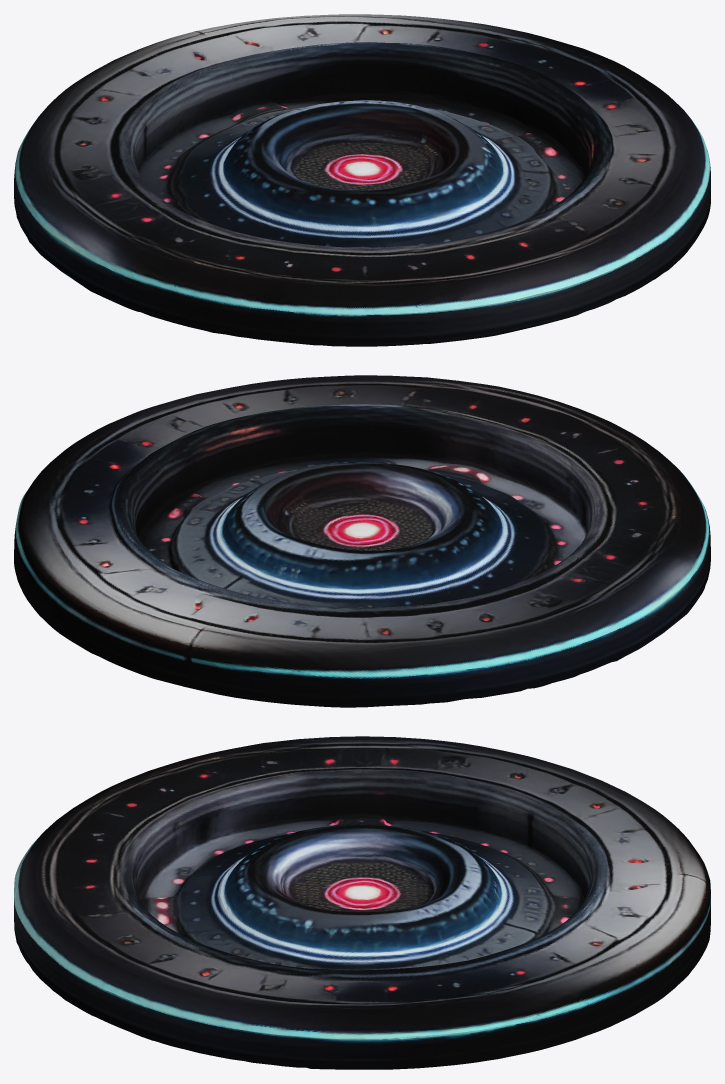
Rendered from ObstacleDisque.glb.
3 renders of one model, top to bottom at view 1: azimuth 30°, elevation 25°; view 2: azimuth 150°, elevation 25°; view 3: azimuth 270°, elevation 25°, orthographic.
Parts seen in each view (by area): view 1: world; view 2: world; view 3: world.
Boxes of the visible parts, x1=… form: world: x1=14, y1=14, x2=710, y2=346; world: x1=14, y1=375, x2=710, y2=707; world: x1=14, y1=736, x2=710, y2=1069.
Bounding box in the file's own units: 0.9998 × 0.0993 × 0.9999.
Materials: 1 (1 with a texture image).
